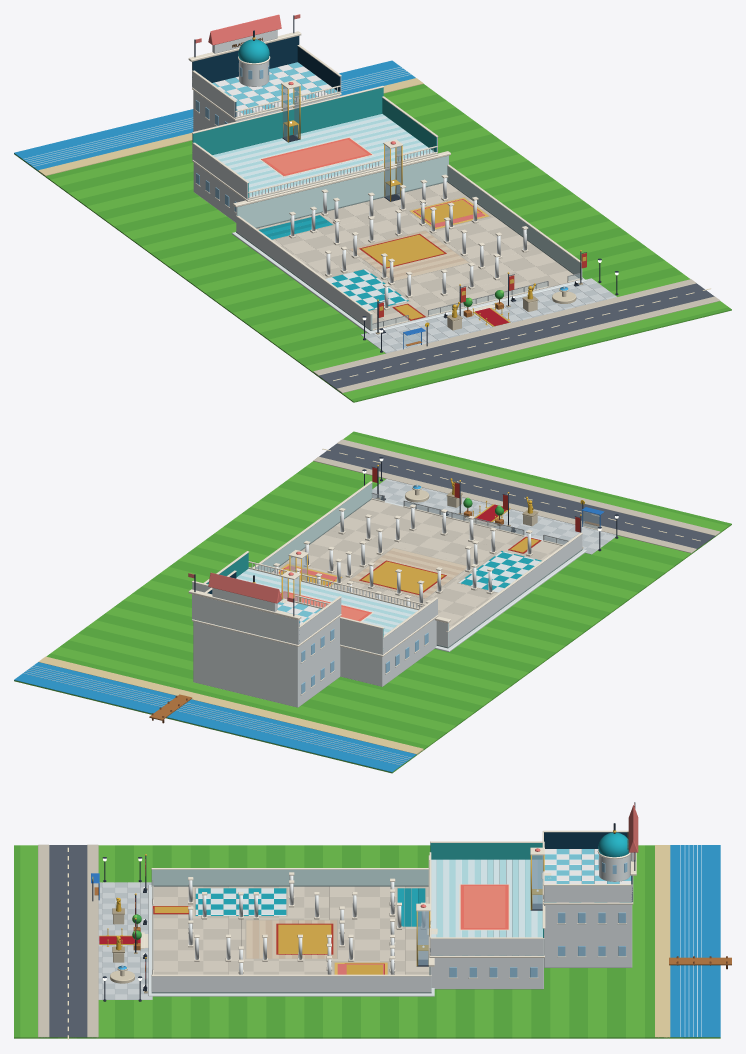
The model's file is shell.glb.
The picture shows the model from 3 angles, top to bottom: view 1: azimuth 30°, elevation 25°; view 2: azimuth 150°, elevation 25°; view 3: azimuth 270°, elevation 25°; orthographic projection. The views are drawn at different scales.
Parts seen in each view (by area): view 1: grounds, building, floor_abyss_gallery, floor_crown_deck, crown, grand_2, lift_crown_deck, lift_abyss_gallery, dome; view 2: grounds, building, floor_crown_deck, floor_abyss_gallery, crown, grand_2; view 3: grounds, building, floor_abyss_gallery, floor_crown_deck, crown, lift_abyss_gallery, lift_crown_deck, dome, grand_4, grand_2, grand_3.
Part boxes in pixels (x1,y1,x2,y2): grounds: (14,60,731,402); building: (232,155,586,334); floor_abyss_gallery: (192,85,438,222); floor_crown_deck: (192,36,341,131); crown: (188,14,450,207); grand_2: (376,250,586,334); lift_crown_deck: (280,80,300,142); lift_abyss_gallery: (382,139,403,201); dome: (238,39,269,63); grounds: (14,431,731,773); building: (252,481,586,651); floor_crown_deck: (192,570,341,707); floor_abyss_gallery: (192,551,438,686); crown: (188,572,450,623); grand_2: (372,465,583,548); grounds: (14,844,731,1039); building: (140,868,434,996); floor_abyss_gallery: (429,831,545,989); floor_crown_deck: (543,830,633,967); crown: (428,802,638,966); lift_abyss_gallery: (416,903,437,966); lift_crown_deck: (530,847,551,910); dome: (598,832,628,857); grand_4: (112,897,124,962); grand_2: (132,854,147,993); grand_3: (99,887,147,990).
Bounding box in the file's own units: 36.5 × 10.73 × 56.9.
